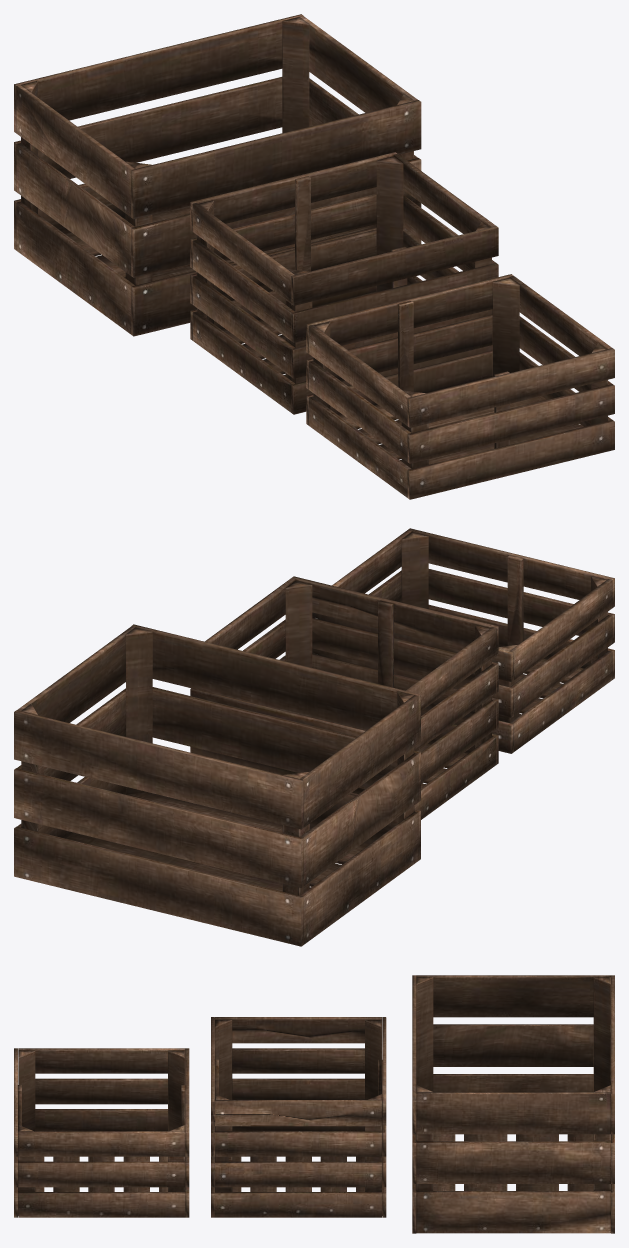
The model's file is st_crates_1.gltf.
3 renders of one model, top to bottom at view 1: azimuth 30°, elevation 25°; view 2: azimuth 150°, elevation 25°; view 3: azimuth 270°, elevation 25°, orthographic. The views are drawn at different scales.
Visible parts, largest first — view 1: wooden_crate-1, wooden-crate-3, wooden_crate_2; view 2: wooden_crate-1, wooden_crate_2, wooden-crate-3; view 3: wooden_crate-1, wooden_crate_2, wooden-crate-3.
Boxes of the visible parts, x1,y1,x2,y2 form: wooden_crate-1: (14,14,421,336); wooden-crate-3: (306,274,614,499); wooden_crate_2: (190,152,498,414); wooden_crate-1: (14,624,420,946); wooden_crate_2: (190,576,498,819); wooden-crate-3: (312,528,614,753); wooden_crate-1: (412,975,614,1233); wooden_crate_2: (211,1017,386,1217); wooden-crate-3: (14,1048,189,1217).
Bounding box in the file's own units: 0.4483 × 0.2473 × 0.9584.
Materials: 1 (1 with a texture image).
